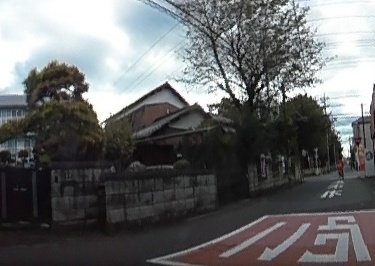person: (334, 152, 345, 175)
